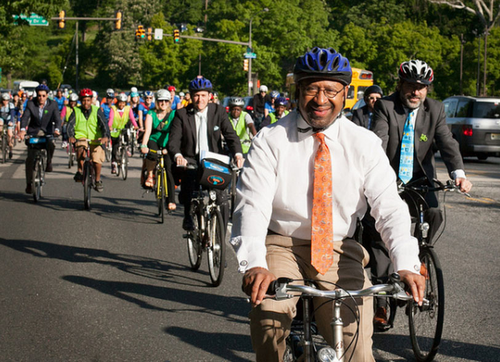bikerider: (238, 46, 427, 362), (367, 52, 469, 361), (165, 73, 252, 289), (140, 83, 182, 221), (63, 86, 107, 209), (18, 83, 63, 200), (106, 89, 140, 185)
